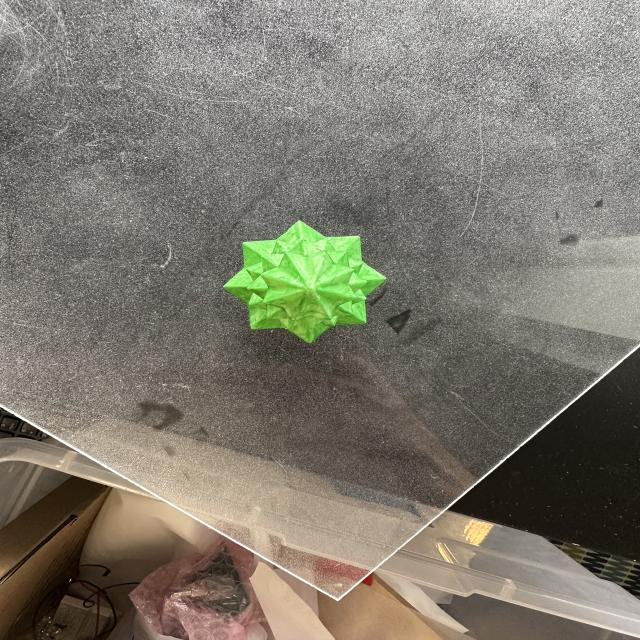tree: (219, 220, 388, 344)
